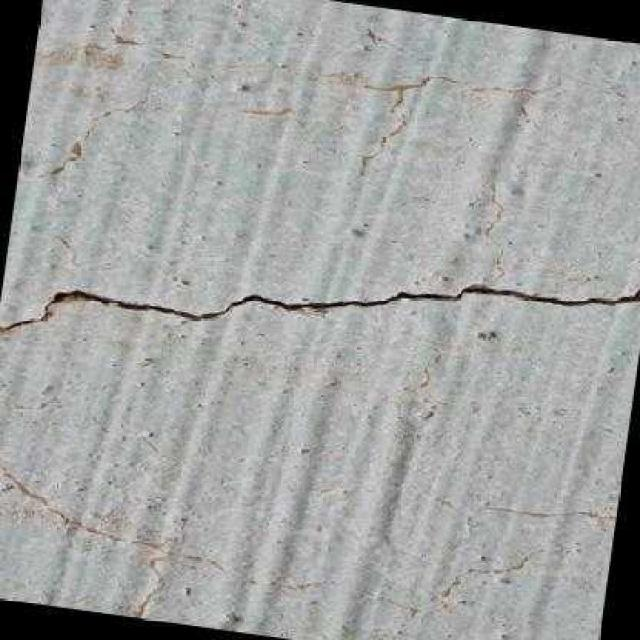D00: (0, 279, 640, 337)
